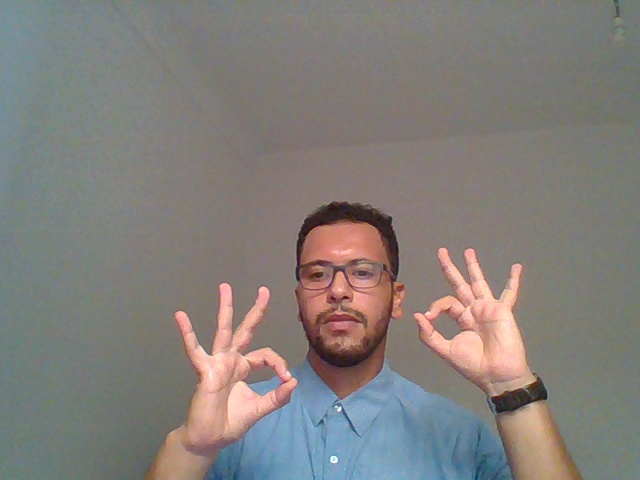okay: (405, 218, 547, 478), (150, 257, 303, 480)
